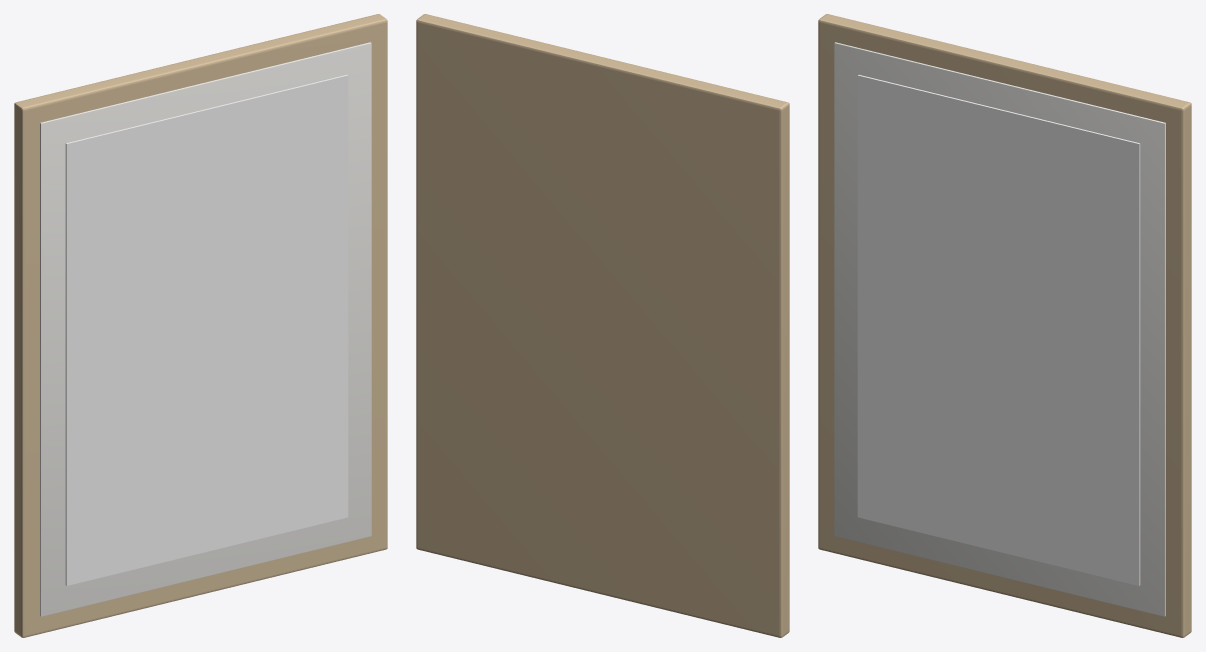
File: ref_print3.fbx
3 renders of one model, left to right at view 1: azimuth 30°, elevation 25°; view 2: azimuth 150°, elevation 25°; view 3: azimuth 330°, elevation 25°, orthographic.
Visible parts, largest first — view 1: EQ_ref_print3_M_Print3, EQ_ref_print3_M_PrintMat, EQ_ref_print3_M_FrameOak; view 2: EQ_ref_print3_M_FrameOak; view 3: EQ_ref_print3_M_Print3, EQ_ref_print3_M_PrintMat, EQ_ref_print3_M_FrameOak.
Part boxes in pixels (x1=…): EQ_ref_print3_M_Print3: x1=65, y1=75, x2=348, y2=585; EQ_ref_print3_M_PrintMat: x1=40, y1=42, x2=371, y2=616; EQ_ref_print3_M_FrameOak: x1=14, y1=14, x2=387, y2=637; EQ_ref_print3_M_FrameOak: x1=416, y1=14, x2=789, y2=637; EQ_ref_print3_M_Print3: x1=857, y1=75, x2=1140, y2=585; EQ_ref_print3_M_PrintMat: x1=834, y1=42, x2=1165, y2=616; EQ_ref_print3_M_FrameOak: x1=818, y1=14, x2=1191, y2=637.
Bounding box in the file's own units: 0.52 × 0.72 × 0.027.
